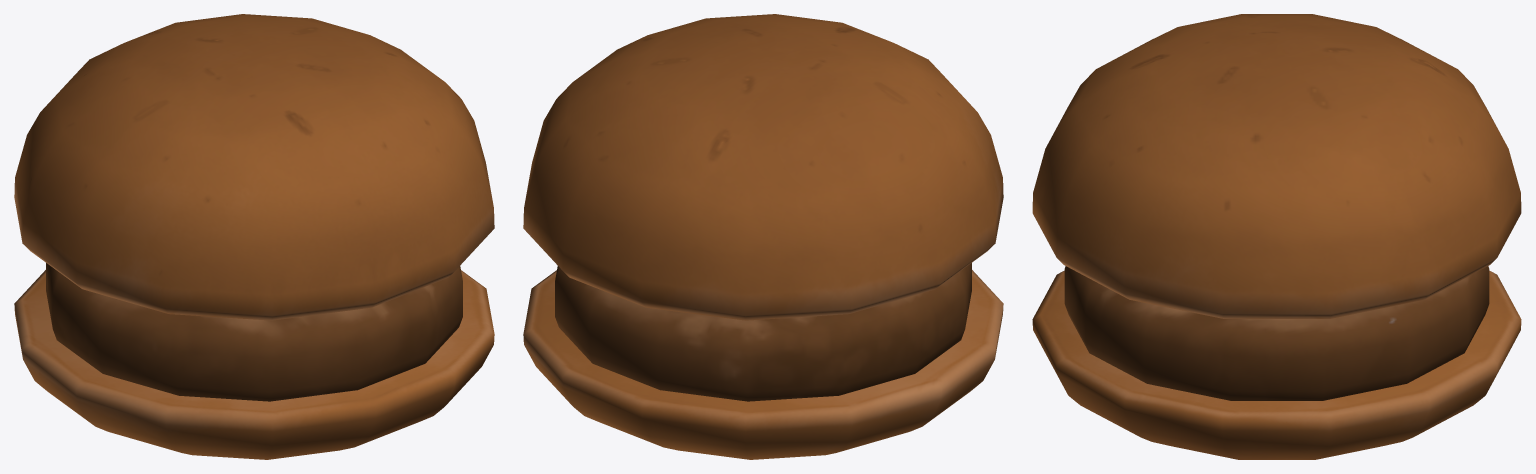
Rendered from MSH_Hamburguesa_P_C_J.fbx.
The picture shows the model from 3 angles, left to right: view 1: azimuth 30°, elevation 25°; view 2: azimuth 150°, elevation 25°; view 3: azimuth 270°, elevation 25°; orthographic projection.
Visible parts, largest first — view 1: MSH_Hamburguesa_P_C_J; view 2: MSH_Hamburguesa_P_C_J; view 3: MSH_Hamburguesa_P_C_J.
Boxes of the visible parts, box(x1,y1,x2,y2) form: MSH_Hamburguesa_P_C_J: box(14, 14, 494, 459); MSH_Hamburguesa_P_C_J: box(523, 14, 1003, 459); MSH_Hamburguesa_P_C_J: box(1032, 14, 1521, 459).
Size of the model in its own units: 14.42 by 14.79 by 11.33.
Materials: 1 (1 with a texture image).
